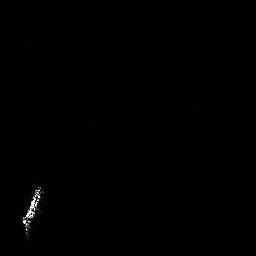ship: (20, 184, 44, 241)
